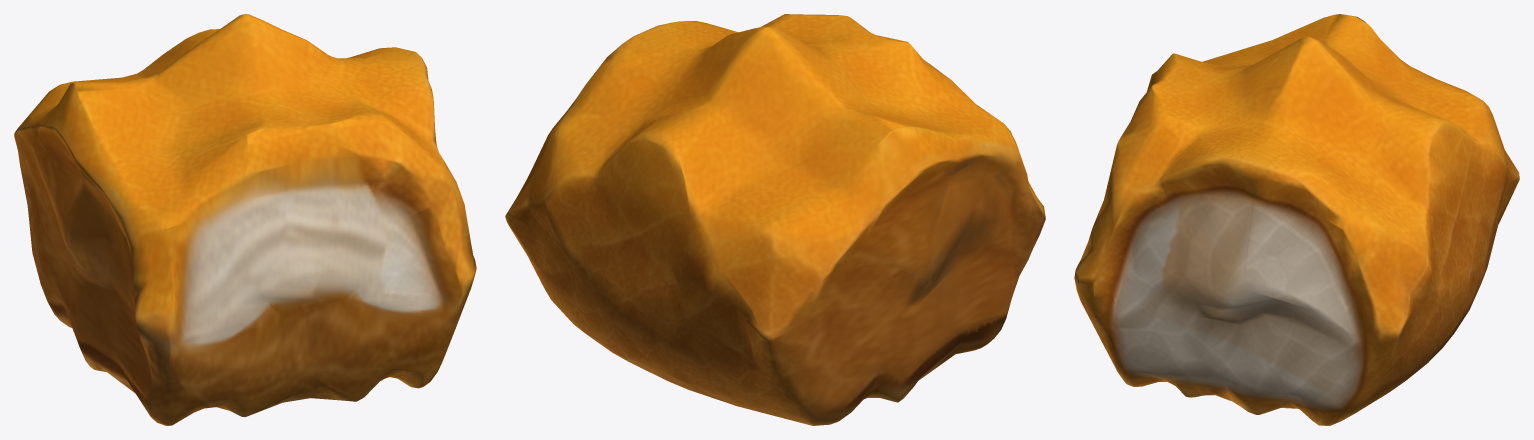
Rendered from Eel_Fry_02.fbx.
The picture shows the model from 3 angles, left to right: view 1: azimuth 30°, elevation 25°; view 2: azimuth 150°, elevation 25°; view 3: azimuth 270°, elevation 25°; orthographic projection. The views are drawn at different scales.
Parts seen in each view (by area): view 1: Eel_Fry_02; view 2: Eel_Fry_02; view 3: Eel_Fry_02.
Boxes of the visible parts, left/top/right/bottom form: Eel_Fry_02: left=14, top=14, right=476, bottom=425; Eel_Fry_02: left=505, top=14, right=1045, bottom=425; Eel_Fry_02: left=1074, top=14, right=1519, bottom=425.
Bounding box in the file's own units: 0.4576 × 0.354 × 0.4551.
Materials: 1 (1 with a texture image).
